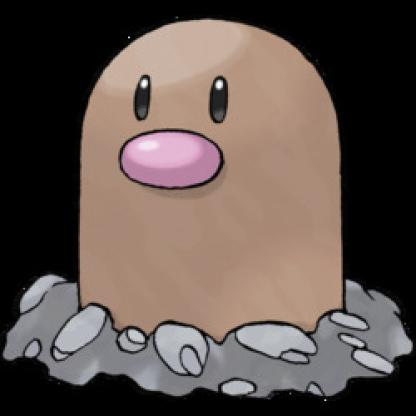Diglett: (3, 13, 415, 402)
